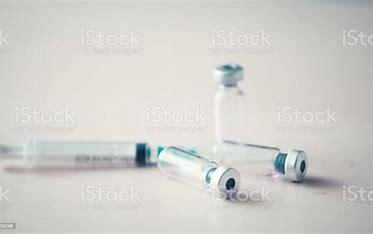Syringe: (152, 144, 242, 204), (205, 61, 255, 146)
